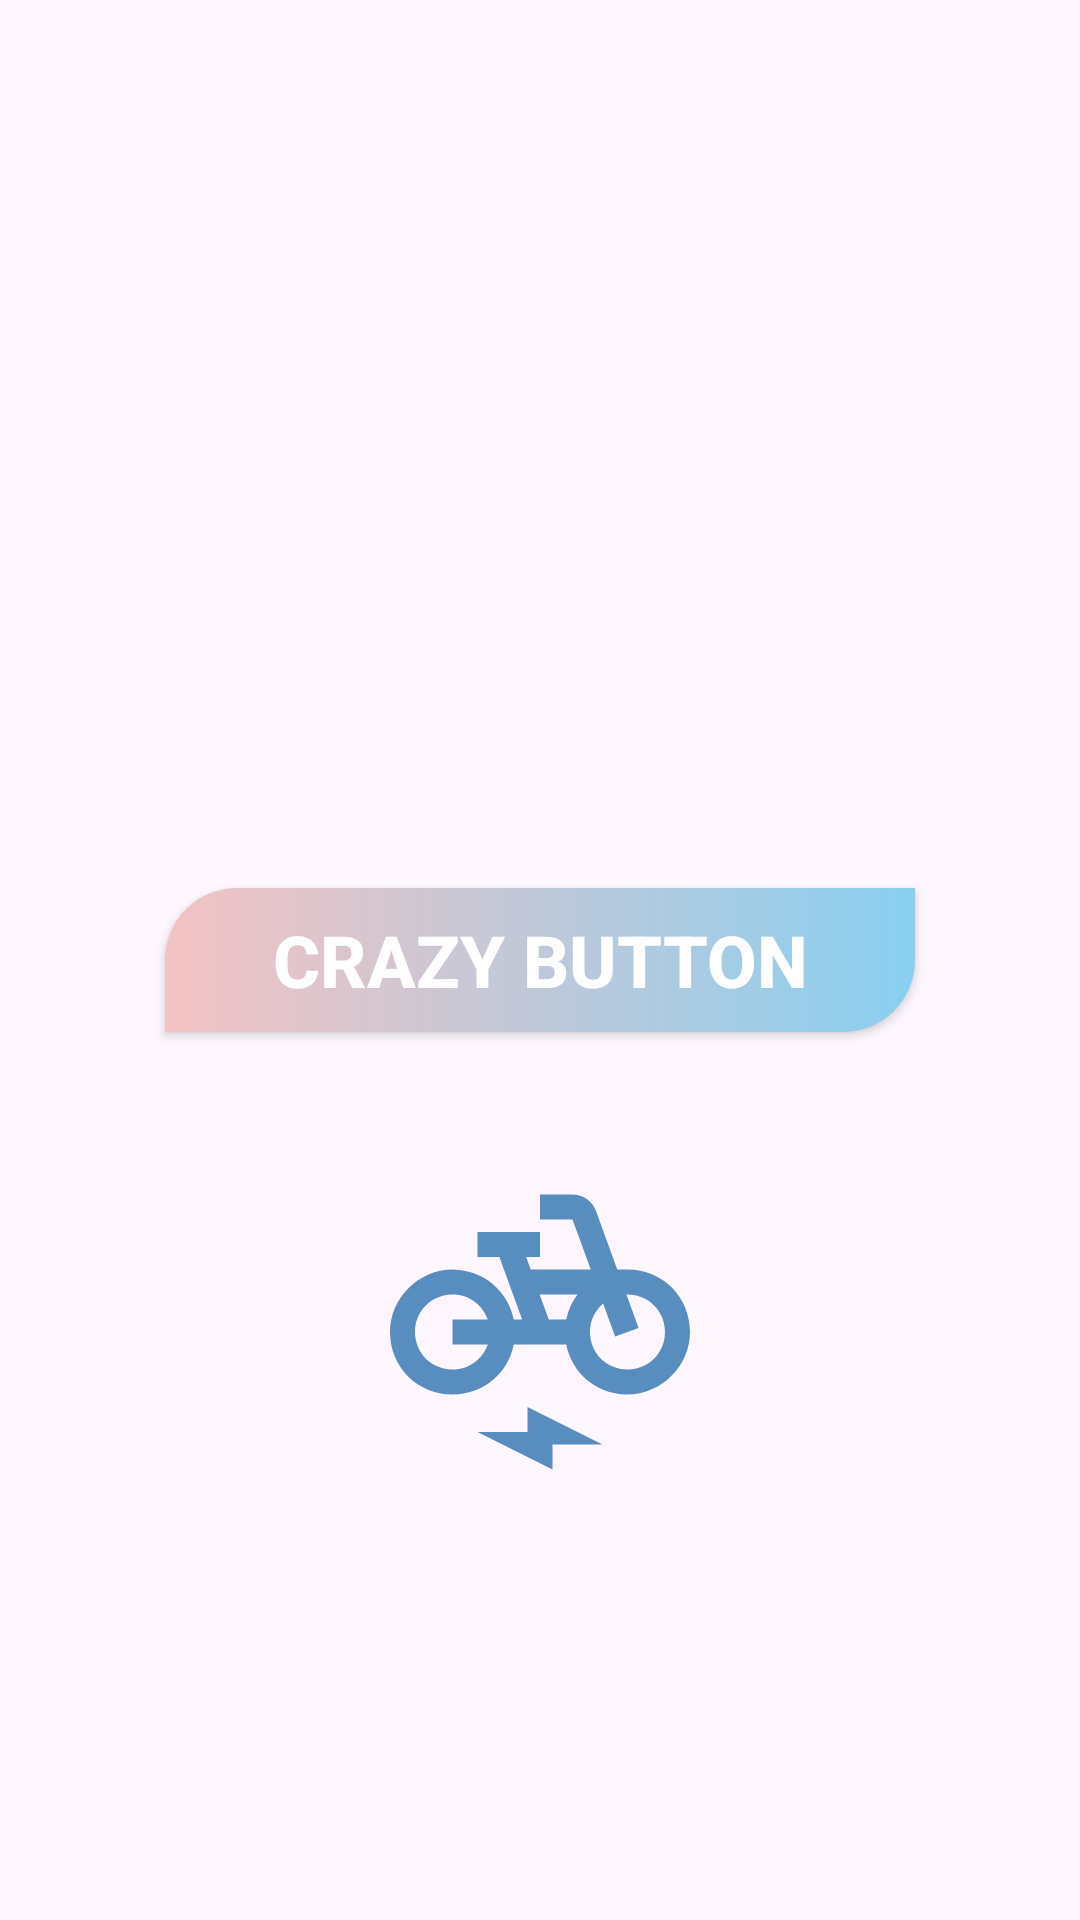

Screen size 1080 × 1920. Icon name, then its center in pixels as (x=x, y=y):
electric bike: (x=540, y=1332)
